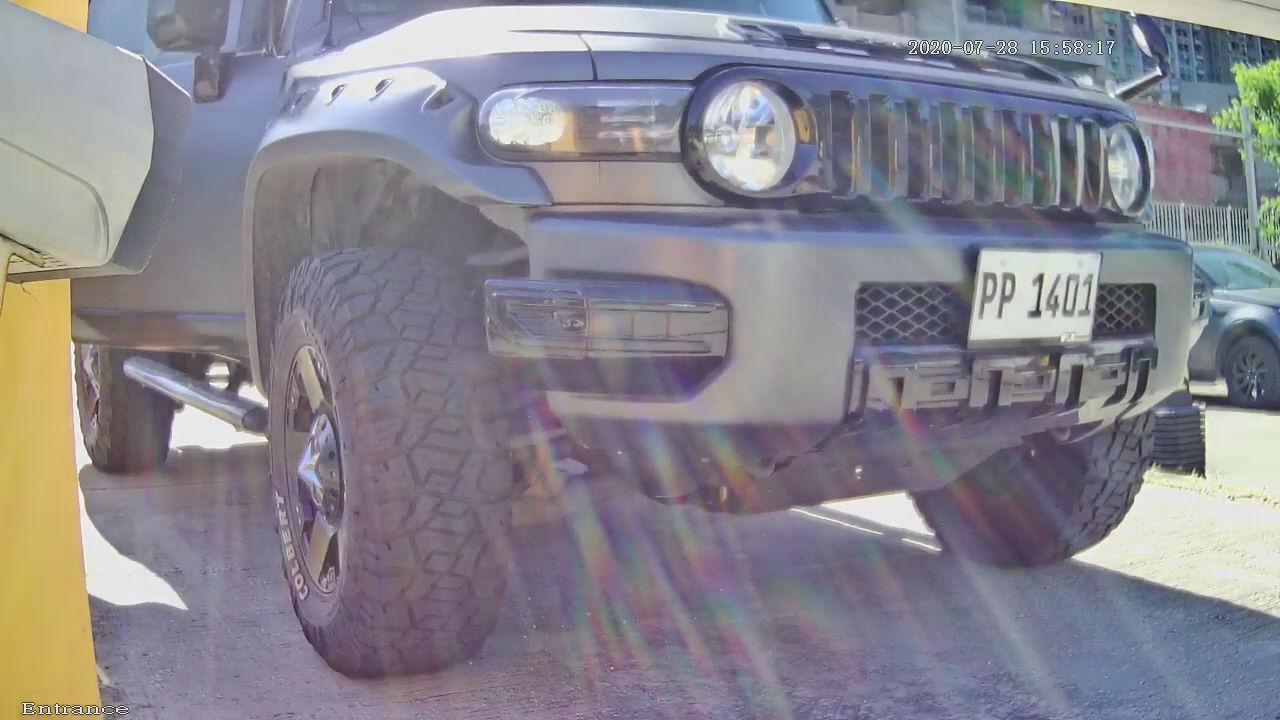privatecar: (12, 1, 1269, 717)
